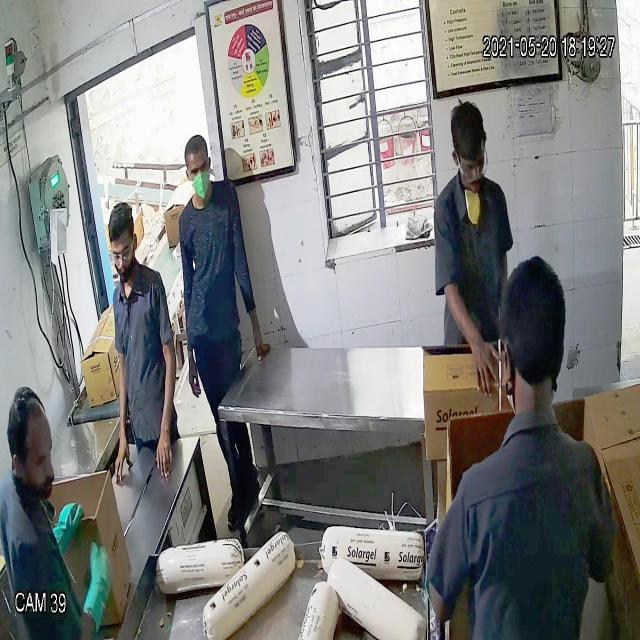glasses: (452, 148, 491, 182), (110, 241, 136, 267)
no-glass: (184, 156, 212, 182)
